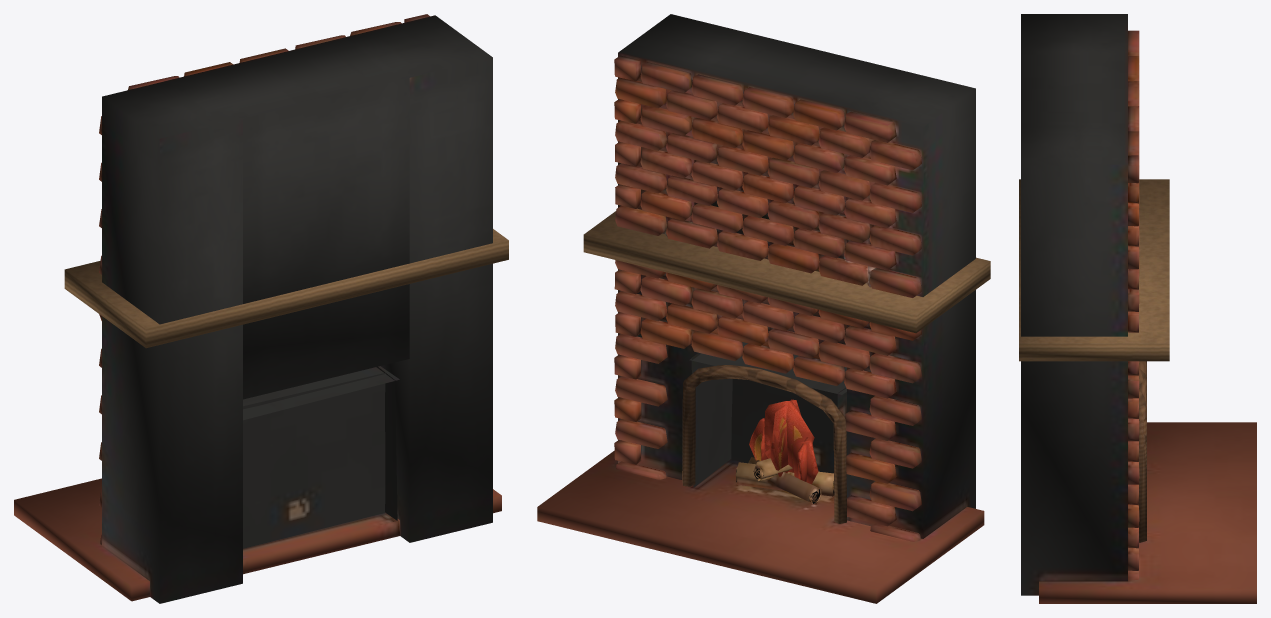
File: fireplace_brick.glb
3 renders of one model, left to right at view 1: azimuth 30°, elevation 25°; view 2: azimuth 150°, elevation 25°; view 3: azimuth 270°, elevation 25°, orthographic. The views are drawn at different scales.
Parts seen in each view (by area): view 1: prop_fireplace_brick_felt, prop_fireplace_brick_wood; view 2: prop_fireplace_brick_felt, prop_fireplace_brick_wood, prop_fireplace_brick_fire; view 3: prop_fireplace_brick_felt, prop_fireplace_brick_wood.
Part boxes in pixels (left/top/right/bottom): prop_fireplace_brick_felt: left=14, top=14, right=501, bottom=603; prop_fireplace_brick_wood: left=64, top=229, right=508, bottom=348; prop_fireplace_brick_felt: left=537, top=14, right=984, bottom=603; prop_fireplace_brick_wood: left=583, top=211, right=990, bottom=523; prop_fireplace_brick_fire: left=749, top=399, right=818, bottom=484; prop_fireplace_brick_felt: left=1021, top=14, right=1256, bottom=603; prop_fireplace_brick_wood: left=1019, top=179, right=1169, bottom=542.
Size of the model in its own units: 4 by 4.8 by 2.4.
4 materials, 4 textured.
